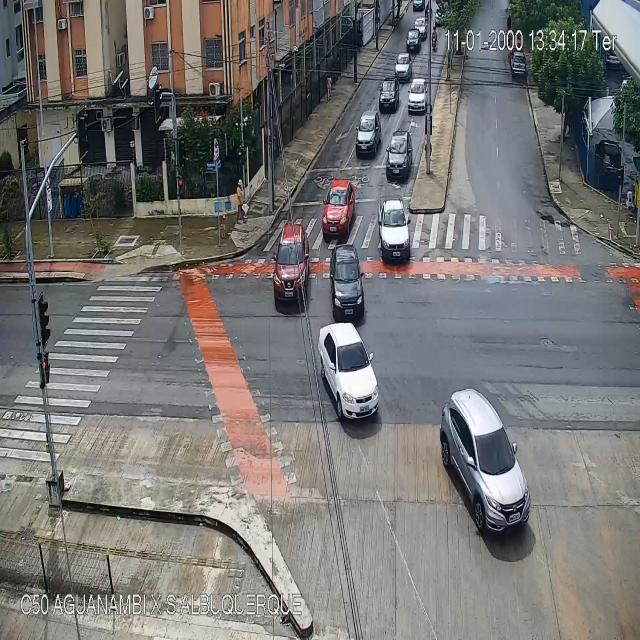Car: (439, 387, 530, 537), (319, 322, 382, 421), (274, 224, 309, 302), (330, 245, 365, 322), (378, 194, 410, 261), (322, 180, 354, 242), (355, 110, 382, 156), (386, 131, 412, 175), (378, 76, 400, 114), (408, 77, 424, 116), (396, 53, 411, 79), (511, 54, 525, 76), (407, 29, 420, 52), (415, 20, 427, 40)
Motorcycle: (431, 26, 437, 52)
